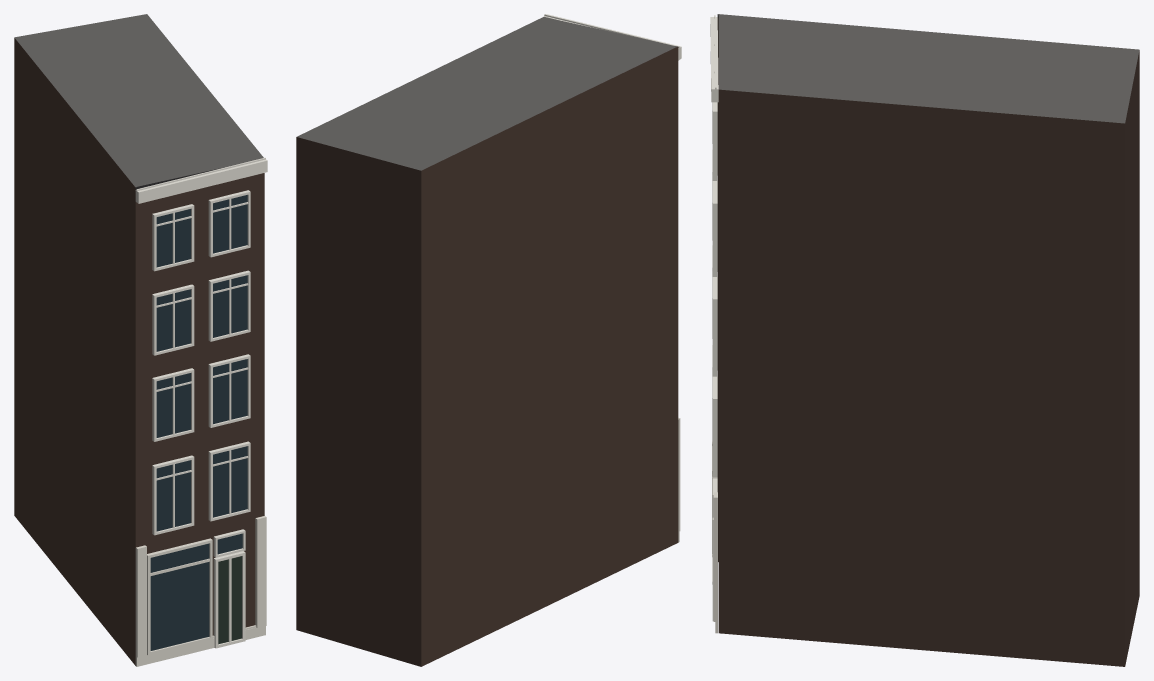
3 renders of one model, left to right at view 1: azimuth 30°, elevation 25°; view 2: azimuth 150°, elevation 25°; view 3: azimuth 270°, elevation 25°, orthographic. The views are drawn at different scales.
Parts seen in each view (by area): view 1: spec-0363100012182400; view 2: spec-0363100012182400; view 3: spec-0363100012182400.
Part boxes in pixels (<box>): spec-0363100012182400: <box>14,14,267,666</box>; spec-0363100012182400: <box>296,14,681,666</box>; spec-0363100012182400: <box>710,14,1139,666</box>.
Size of the model in its own units: 6.04 by 14.56 by 10.35.
